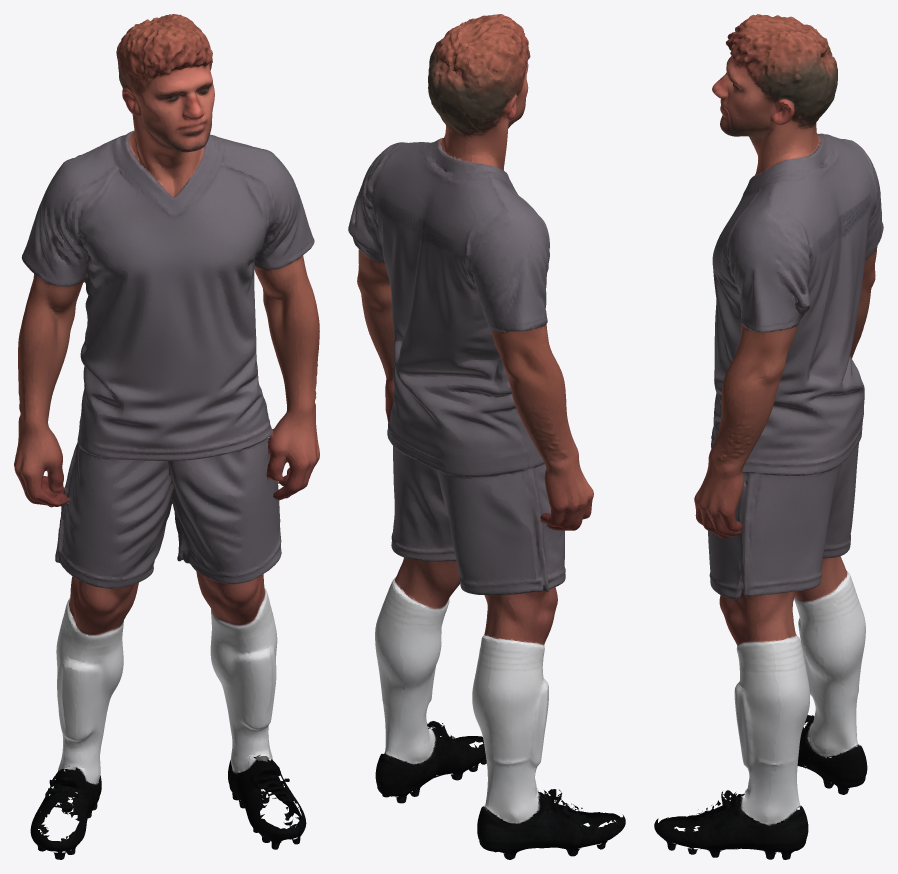
3 views of the same model, side by side, from view 1: azimuth 30°, elevation 25°; view 2: azimuth 150°, elevation 25°; view 3: azimuth 270°, elevation 25° (orthographic).
Visible parts, largest first — view 1: model; view 2: model; view 3: model.
Part boxes in pixels (x1,y1,x2,y2): model: (14,14,319,859); model: (348,14,625,859); model: (654,14,883,859).
Bounding box in the file's own units: 0.3554 × 1 × 0.2624.
Materials: 1 (1 with a texture image).
